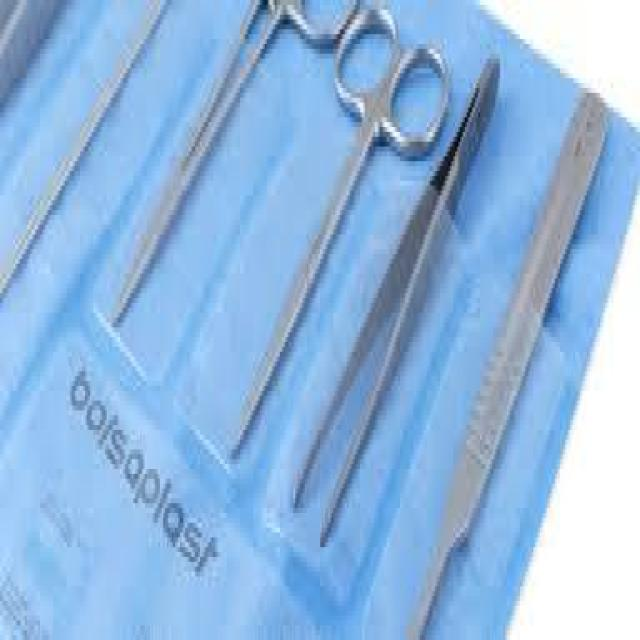B3: (215, 5, 458, 479)
